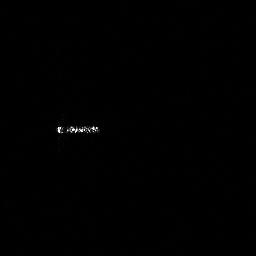ship: (56, 124, 100, 134)
